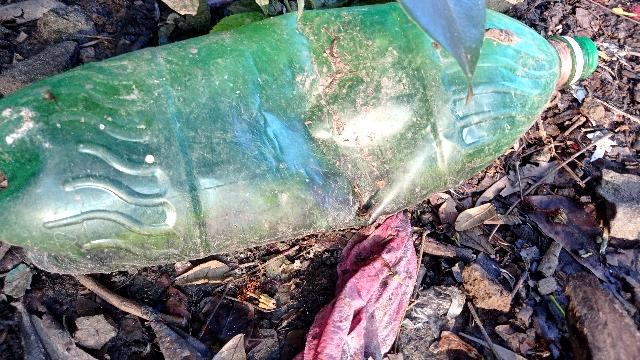bottle: (2, 16, 576, 271)
